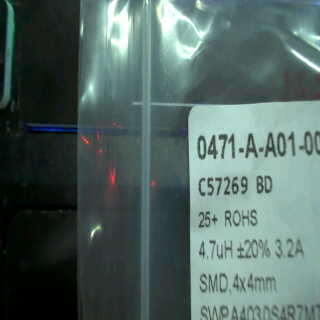4.7uH: (194, 236, 235, 264)
